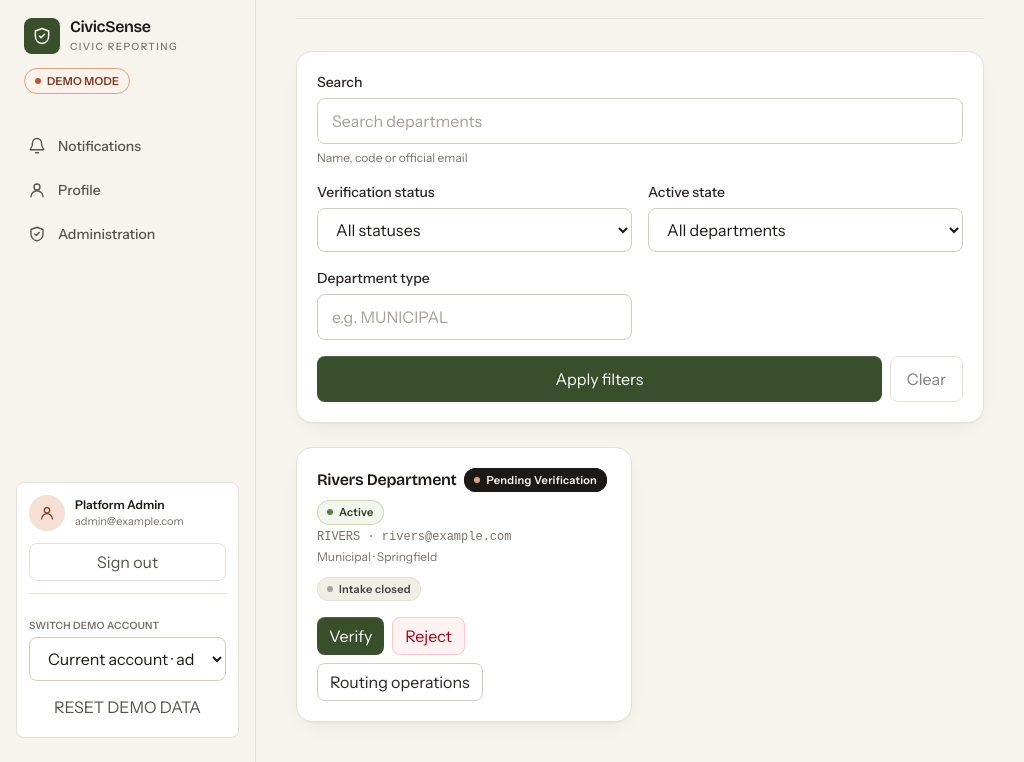
Test case: admin department governance › requires an audited reason before verification is submitted
(page scrolled)
Expected: the heading "Rivers Department" is shown, x1=317 y1=468 x2=456 y2=492
Click the button "Verify". click: (351, 636)
box: x1=317 y1=617 x2=384 y2=655
(page scrolled)
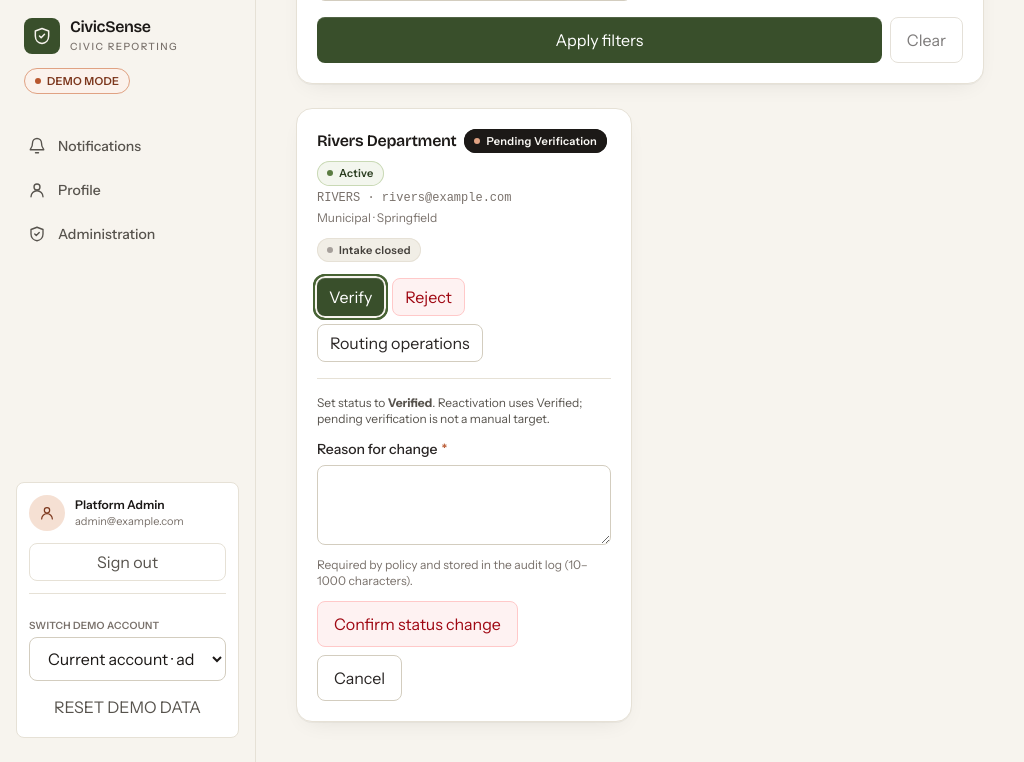
Type "too short" into the text box labelled "Reason for change". click: (464, 505)
box: x1=317 y1=465 x2=611 y2=545
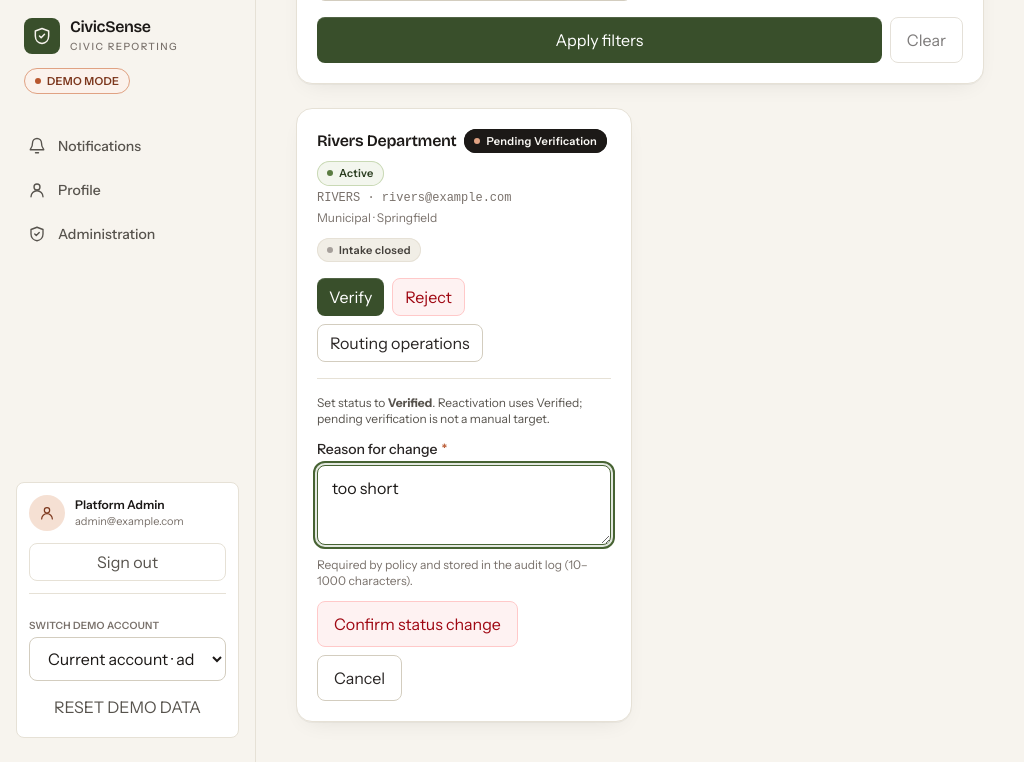
Click the button "Confirm status change". click: (417, 624)
box: x1=317 y1=601 x2=518 y2=647
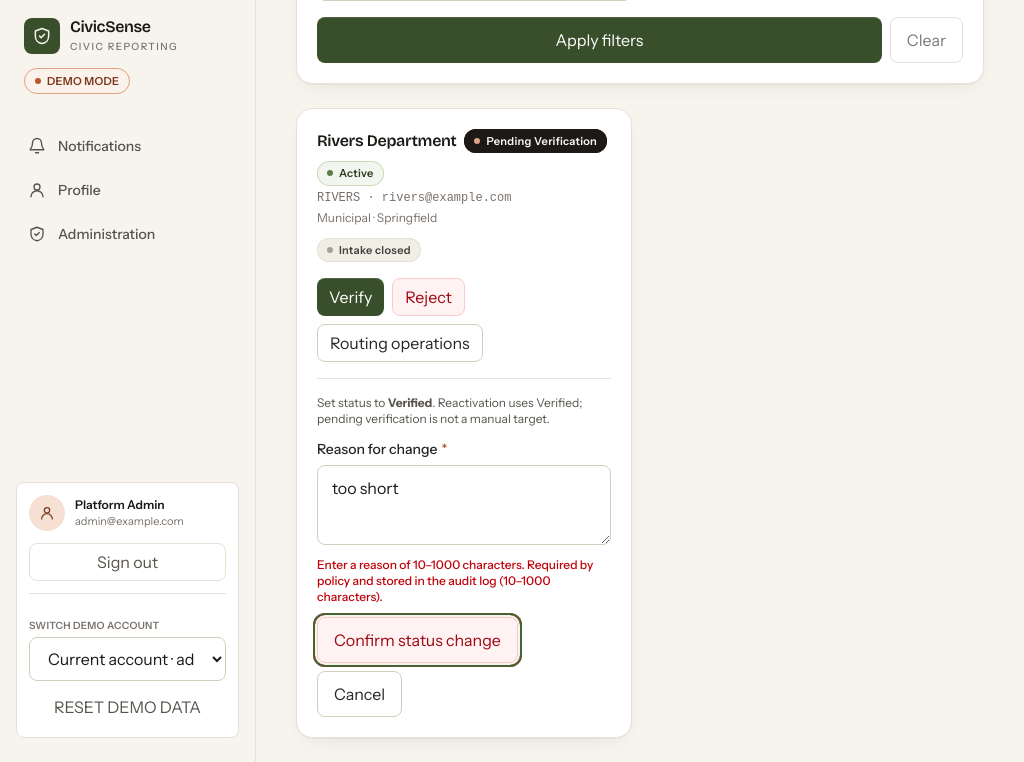
Expected: the text "Enter a reason of 10" is shown, x1=317 y1=557 x2=593 y2=604
Replace the text in the text box labelled "Reason for change" with "Verified after site inspection". click: (464, 505)
box: x1=317 y1=465 x2=611 y2=545
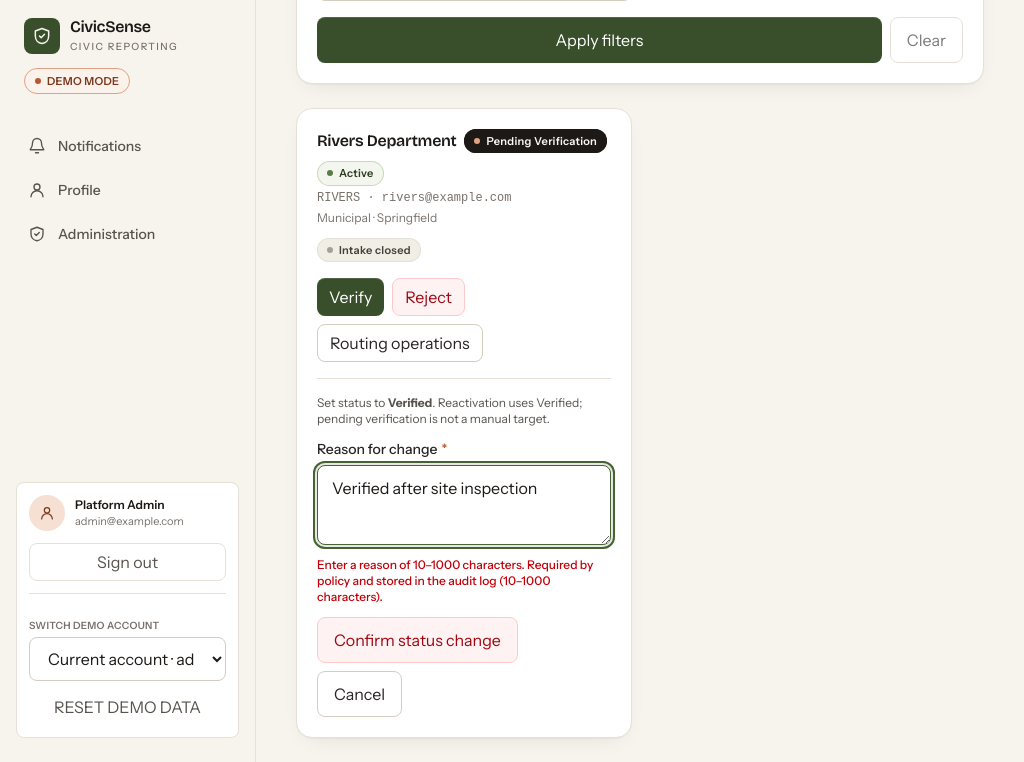
Click the button "Confirm status change". click: (417, 640)
box: x1=317 y1=617 x2=518 y2=663
(page scrolled)
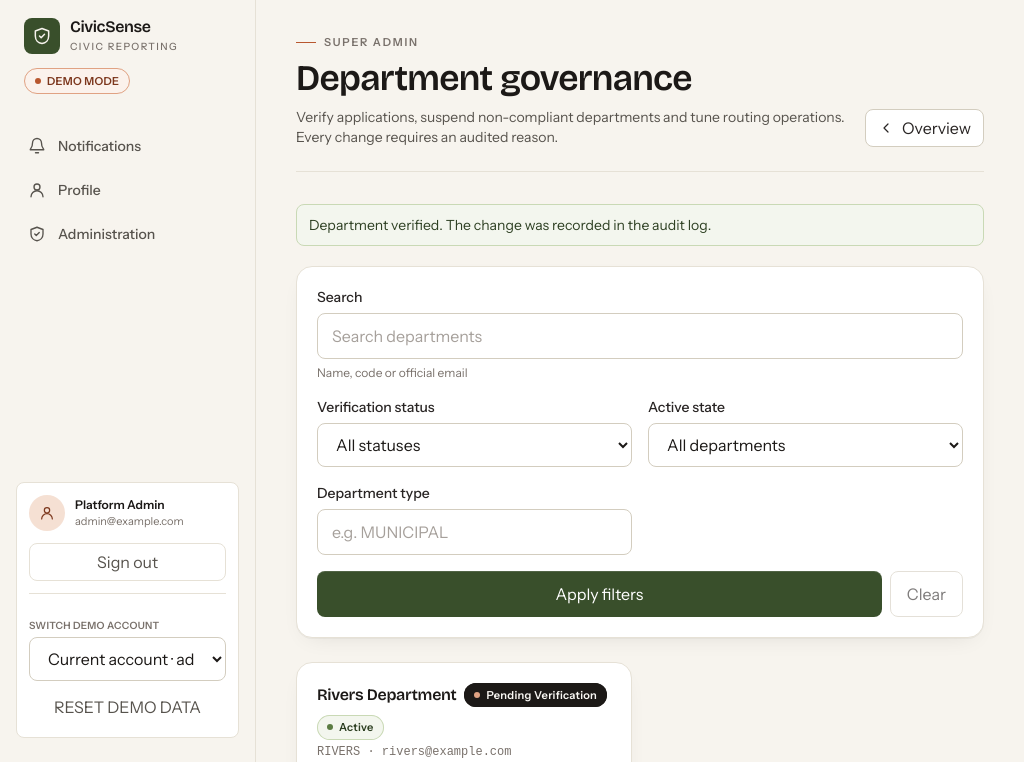
Expected: the text "Department verified. The change was recorded in the audit log." is shown, x1=296 y1=204 x2=984 y2=246
